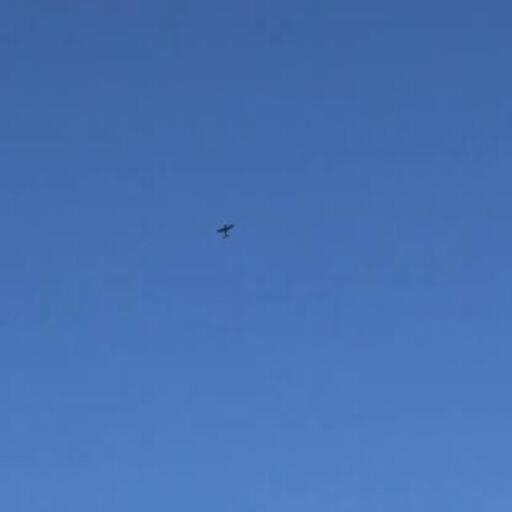aircraft: (217, 223, 236, 239)
